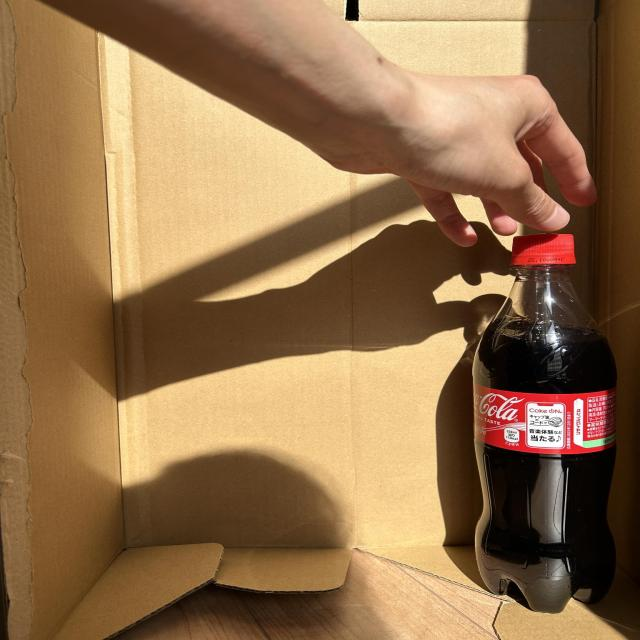high: (473, 234, 616, 613)
